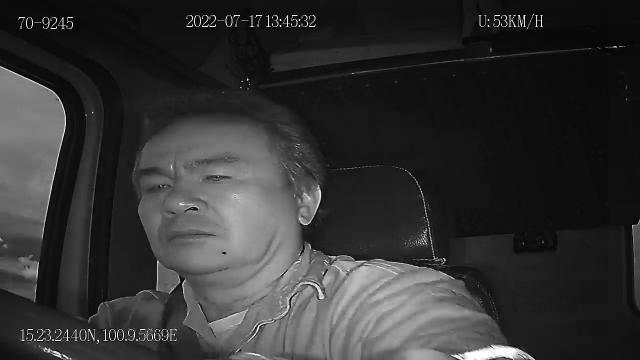SafeDriving: (193, 163, 242, 189), (136, 172, 179, 199)
Seatbelt: (159, 280, 209, 360)
